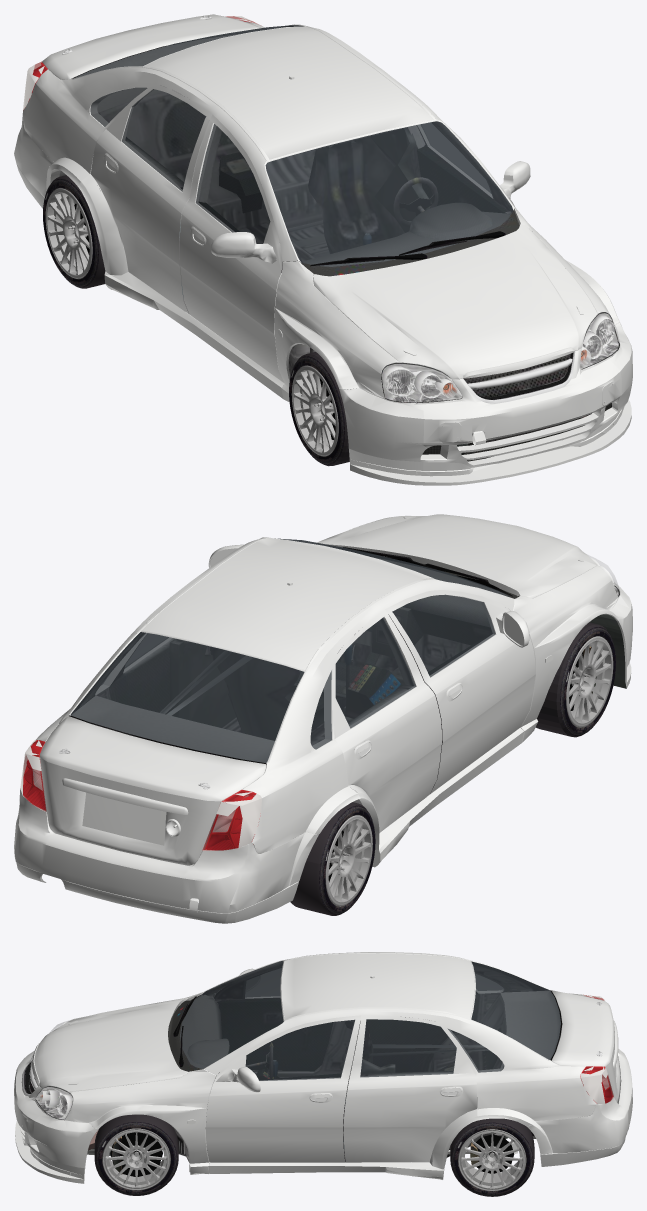
Rendered from gentra.glb.
The picture shows the model from 3 angles, top to bottom: view 1: azimuth 30°, elevation 25°; view 2: azimuth 150°, elevation 25°; view 3: azimuth 270°, elevation 25°; orthographic projection. The views are drawn at different scales.
Visible parts, largest first — view 1: paint, glass, interior, shell, wheel_0, wheel_2, head, chrome; view 2: paint, glass, interior, shell, wheel_2, wheel_0, tail, indicatorRight, reverse; view 3: paint, glass, interior, wheel_1, wheel_3, shell, head, indicatorLeft.
Part boxes in pixels (x1=…): paint: x1=14, y1=14, x2=632, y2=485; glass: x1=23, y1=16, x2=619, y2=402; interior: x1=99, y1=25, x2=512, y2=313; shell: x1=46, y1=33, x2=617, y2=461; wheel_0: x1=289, y1=352, x2=349, y2=466; wheel_2: x1=43, y1=175, x2=105, y2=288; head: x1=381, y1=312, x2=619, y2=403; chrome: x1=61, y1=16, x2=575, y2=403; paint: x1=14, y1=514, x2=632, y2=923; glass: x1=23, y1=515, x2=619, y2=850; interior: x1=71, y1=558, x2=508, y2=793; shell: x1=37, y1=547, x2=626, y2=850; wheel_2: x1=290, y1=802, x2=375, y2=915; wheel_0: x1=535, y1=622, x2=616, y2=737; tail: x1=23, y1=740, x2=256, y2=850; indicatorRight: x1=206, y1=790, x2=261, y2=848; reverse: x1=20, y1=765, x2=257, y2=850; paint: x1=14, y1=952, x2=632, y2=1183; glass: x1=36, y1=961, x2=613, y2=1119; interior: x1=180, y1=961, x2=549, y2=1161; wheel_1: x1=94, y1=1114, x2=178, y2=1195; wheel_3: x1=450, y1=1118, x2=534, y2=1196; shell: x1=23, y1=990, x2=612, y2=1162; head: x1=35, y1=1022, x2=72, y2=1119; indicatorLeft: x1=41, y1=1066, x2=612, y2=1096.
Size of the model in its own units: 1.95 by 1.38 by 4.48.
Materials: 11 (8 with a texture image).
